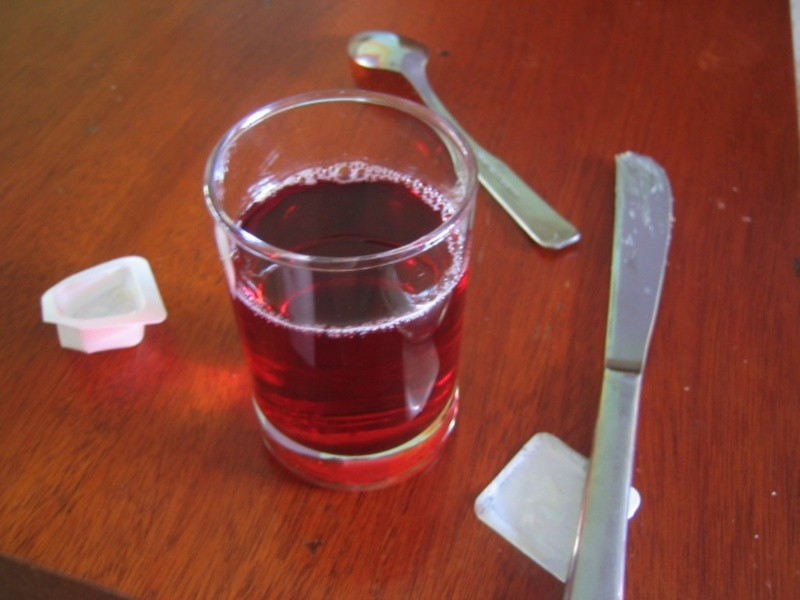knife: (558, 149, 684, 600)
